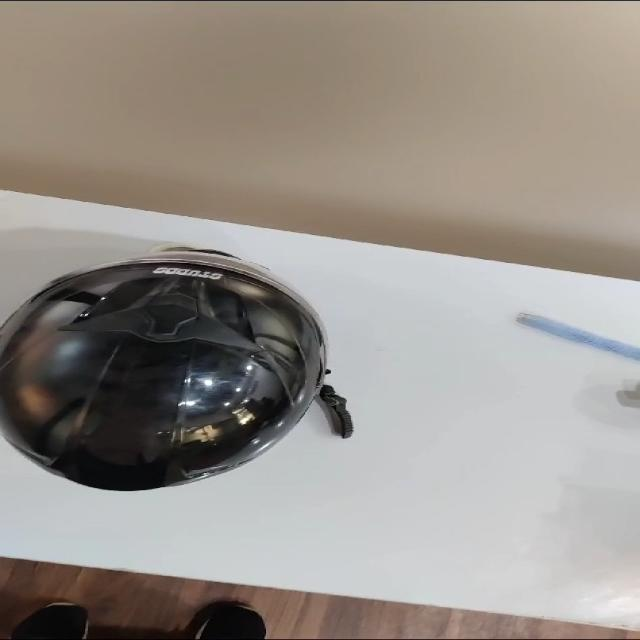helmet: (0, 247, 352, 491)
